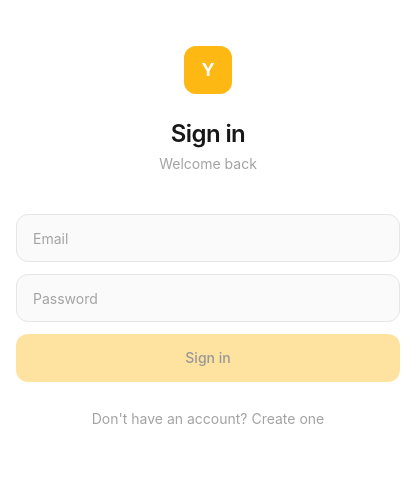
Test case: Assistant Page › toggles to register form
Click the button "Don't have an account? Create one". click: (208, 419)
box: [92,409,324,429]
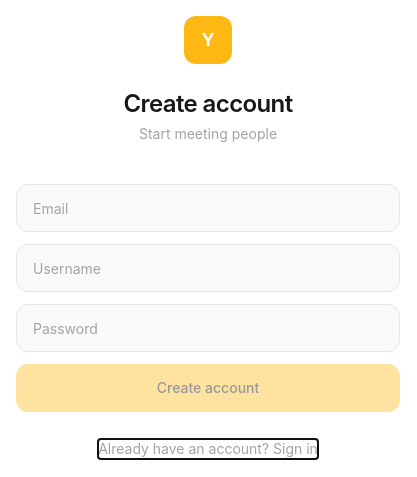
Now the heading "Create account" is shown, box [123,89,293,118]
Now the field with placeholder "Username" is shown, box [16,244,400,292]
